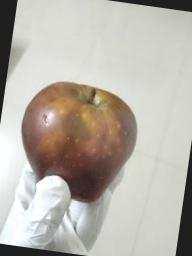Apple Rotten: (7, 74, 146, 212)
